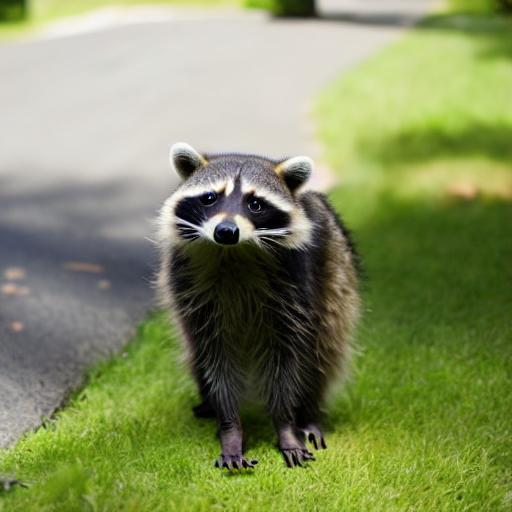raccoon: (149, 136, 375, 443)
